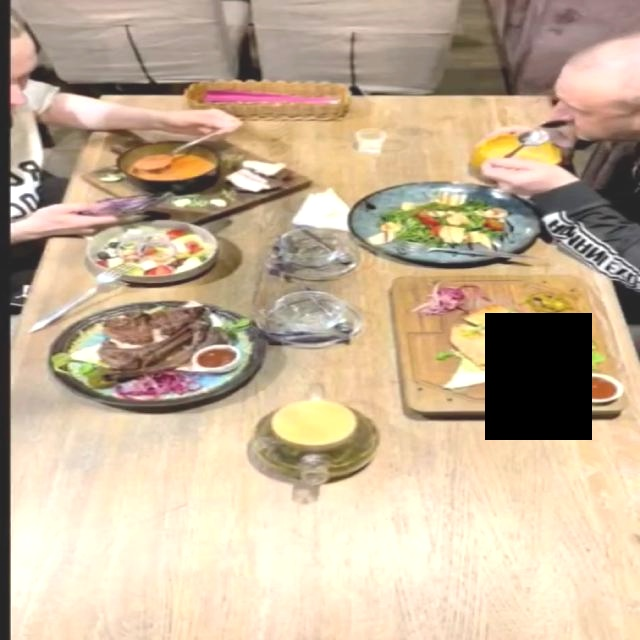meat: (383, 272, 624, 426), (45, 300, 269, 408)
salad: (349, 181, 543, 264), (84, 218, 220, 283)
soup: (77, 136, 313, 223), (470, 133, 562, 172)
tea: (244, 377, 391, 502)
